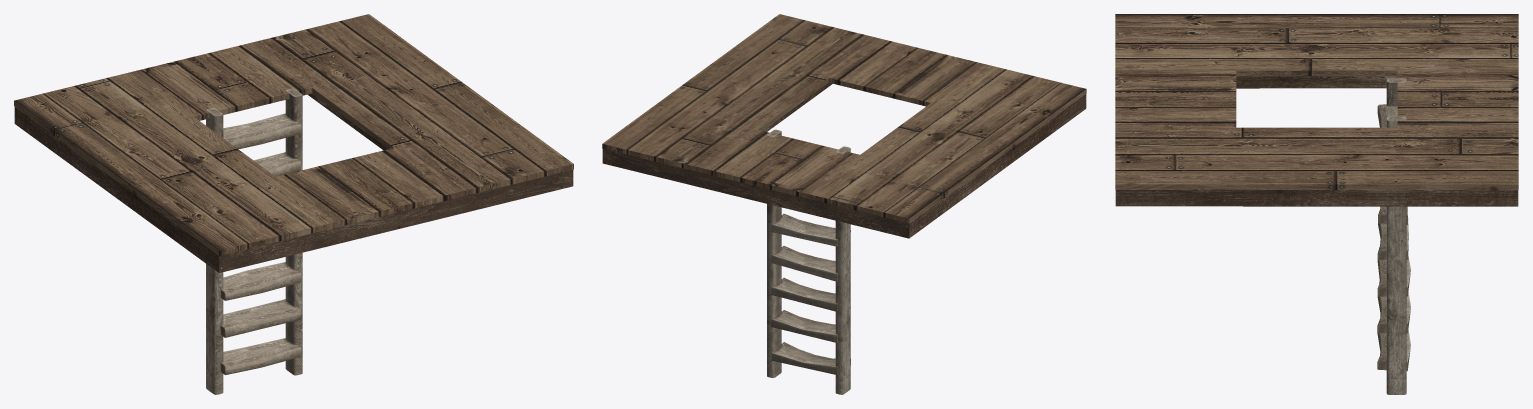
The model's file is Floor_Opening.dae.
The picture shows the model from 3 angles, left to right: view 1: azimuth 30°, elevation 25°; view 2: azimuth 150°, elevation 25°; view 3: azimuth 270°, elevation 25°; orthographic projection. The views are drawn at different scales.
Visible parts, largest first — view 1: Opening, Ladder; view 2: Opening, Ladder; view 3: Opening, Ladder.
Boxes of the visible parts, box(x1,y1,x2,y2) form: Opening: box(14, 14, 573, 272); Ladder: box(206, 88, 302, 394); Opening: box(602, 14, 1086, 238); Ladder: box(767, 129, 850, 394); Opening: box(1115, 14, 1518, 206); Ladder: box(1377, 78, 1410, 394).
Bounding box in the file's own units: 4 × 3 × 4.
2 materials, 2 textured.
